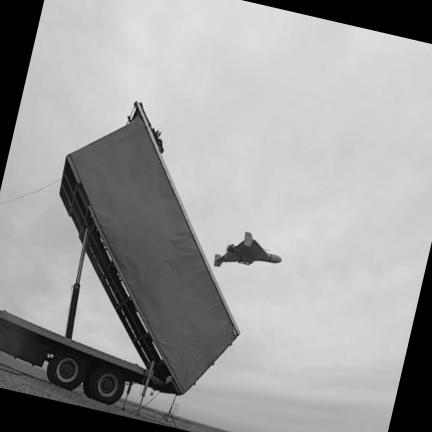Shahed: (213, 232, 280, 267)
